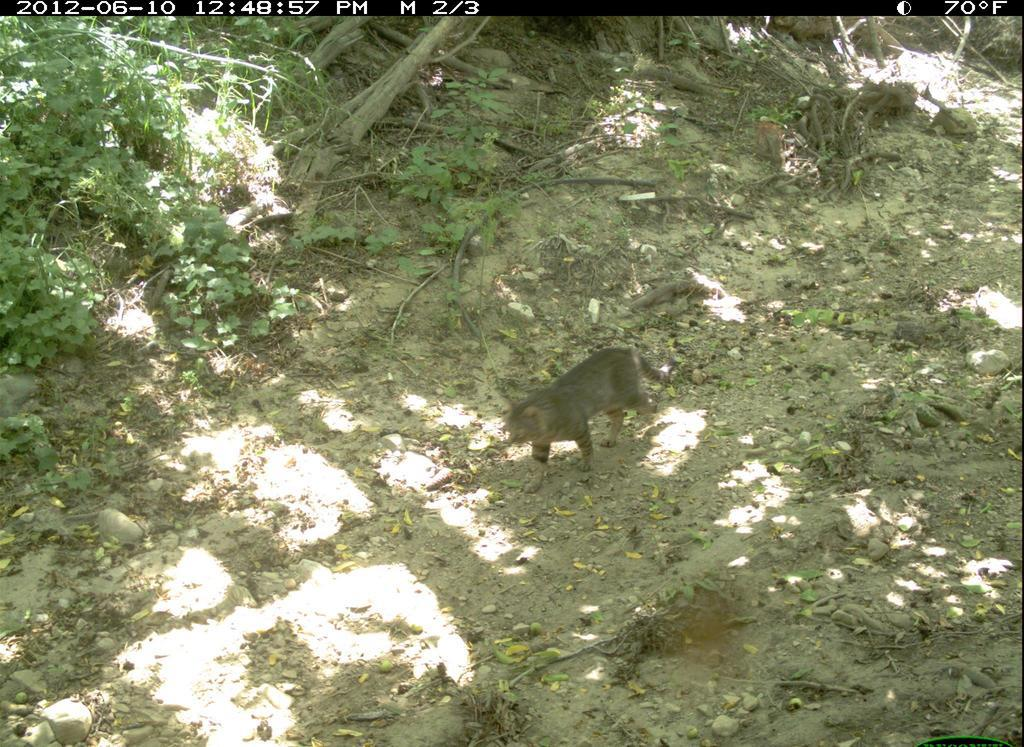cat: (498, 344, 682, 495)
